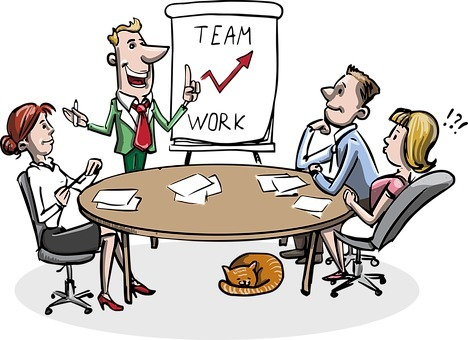cat: (211, 248, 288, 300)
chair: (334, 162, 459, 306), (14, 169, 99, 314)
diningtable: (68, 155, 361, 301)
person: (4, 99, 151, 319), (53, 13, 202, 172), (325, 93, 437, 242), (292, 57, 376, 185)
